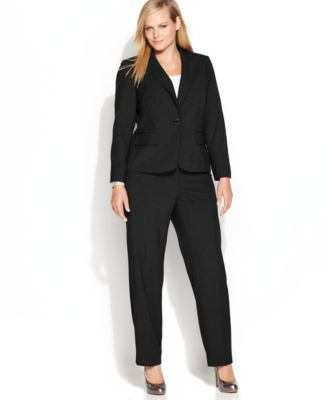F_W_suit jacket: (111, 45, 244, 192)
